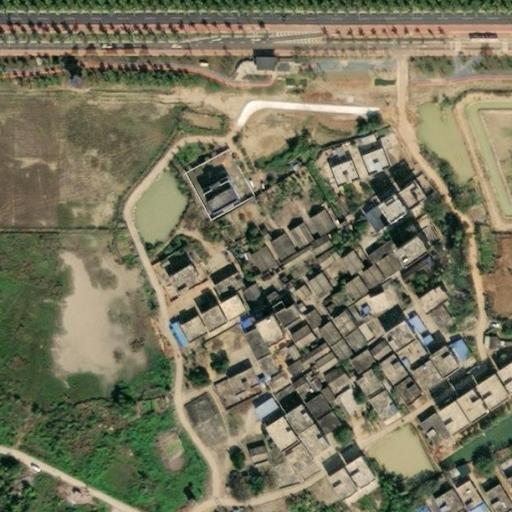building: (173, 146, 245, 218), (181, 388, 229, 445), (473, 374, 510, 413), (292, 423, 328, 460), (437, 401, 472, 439), (405, 358, 441, 394), (404, 238, 441, 273), (277, 443, 312, 480), (262, 418, 297, 455), (378, 321, 413, 356), (456, 389, 490, 425), (412, 413, 446, 448), (392, 340, 426, 374), (361, 389, 394, 424), (324, 469, 357, 504), (345, 367, 378, 401), (203, 272, 239, 303), (342, 458, 373, 493), (237, 241, 270, 273), (164, 266, 197, 297), (387, 375, 418, 408), (258, 317, 288, 351), (220, 368, 252, 399), (426, 347, 457, 379), (281, 405, 312, 436), (299, 208, 329, 239), (314, 362, 345, 392), (415, 286, 446, 315), (371, 354, 400, 385), (478, 483, 509, 512), (449, 480, 478, 511), (322, 157, 352, 186), (196, 306, 226, 335), (396, 182, 425, 211), (246, 397, 276, 425), (276, 222, 304, 251), (259, 232, 287, 261), (332, 249, 360, 278), (236, 328, 262, 359), (354, 147, 382, 175), (355, 206, 383, 234), (336, 274, 364, 302), (352, 263, 380, 291), (340, 349, 368, 376), (270, 245, 302, 268), (378, 198, 405, 225), (216, 297, 243, 324), (309, 320, 336, 347), (305, 349, 332, 376), (297, 273, 323, 301), (173, 318, 201, 344), (323, 311, 349, 338), (303, 398, 331, 423), (232, 284, 258, 310), (368, 253, 393, 280), (494, 361, 512, 398), (427, 489, 455, 512), (327, 389, 351, 415), (243, 438, 269, 462), (303, 246, 330, 269), (284, 327, 309, 351), (321, 338, 346, 362), (467, 469, 492, 493), (351, 127, 379, 148), (358, 339, 382, 363), (360, 291, 383, 315), (336, 329, 359, 353), (425, 308, 447, 332), (282, 374, 305, 396), (442, 339, 464, 362), (489, 458, 512, 480), (288, 282, 308, 307), (249, 274, 273, 294), (163, 322, 181, 348), (251, 51, 277, 69), (300, 342, 323, 362), (301, 235, 323, 255), (498, 470, 512, 500), (399, 314, 418, 335), (336, 306, 354, 328), (295, 309, 313, 330), (276, 359, 296, 377), (347, 323, 364, 342), (277, 343, 293, 362), (463, 501, 485, 512), (475, 335, 489, 349), (413, 335, 425, 347), (409, 506, 423, 512), (506, 456, 512, 469)
